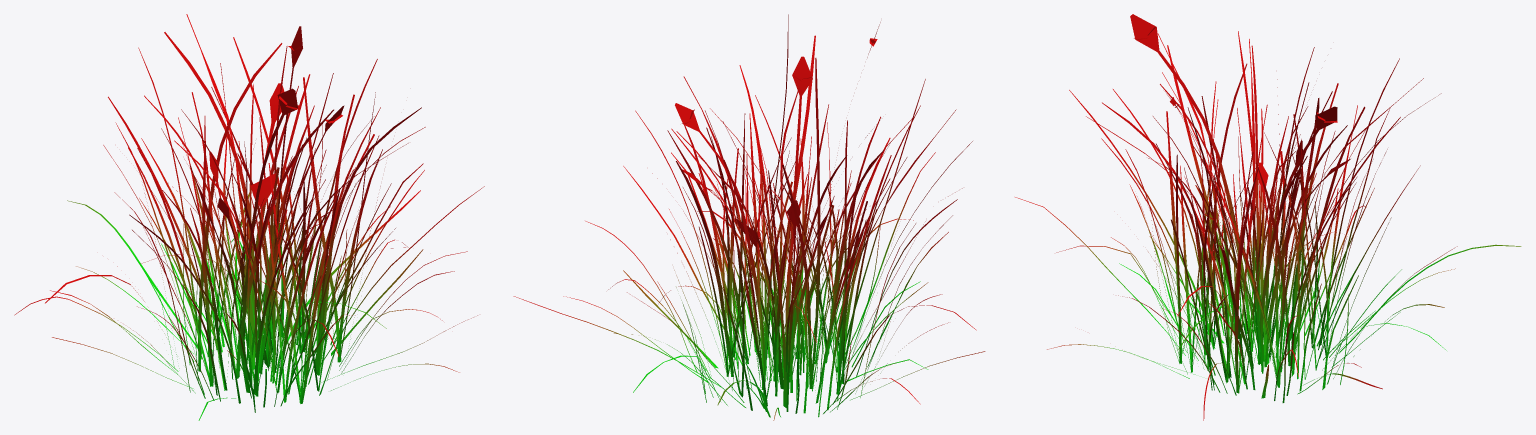
File: ueyoebmia_Var9_LOD1.fbx
The picture shows the model from 3 angles, left to right: view 1: azimuth 30°, elevation 25°; view 2: azimuth 150°, elevation 25°; view 3: azimuth 270°, elevation 25°; orthographic projection. The views are drawn at different scales.
Parts seen in each view (by area): view 1: _b55b_Var9_LOD1; view 2: _b55b_Var9_LOD1; view 3: _b55b_Var9_LOD1.
Boxes of the visible parts, x1=… form: _b55b_Var9_LOD1: x1=14, y1=14, x2=484, y2=420; _b55b_Var9_LOD1: x1=513, y1=14, x2=985, y2=420; _b55b_Var9_LOD1: x1=1015, y1=14, x2=1521, y2=420.
Bounding box in the file's own units: 49.26 × 37.37 × 51.31.
